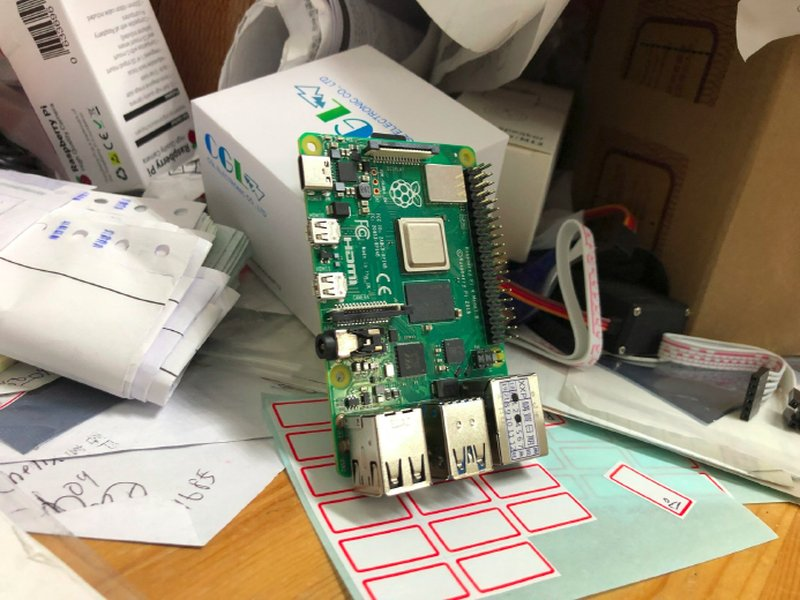pi: (291, 127, 555, 505)
